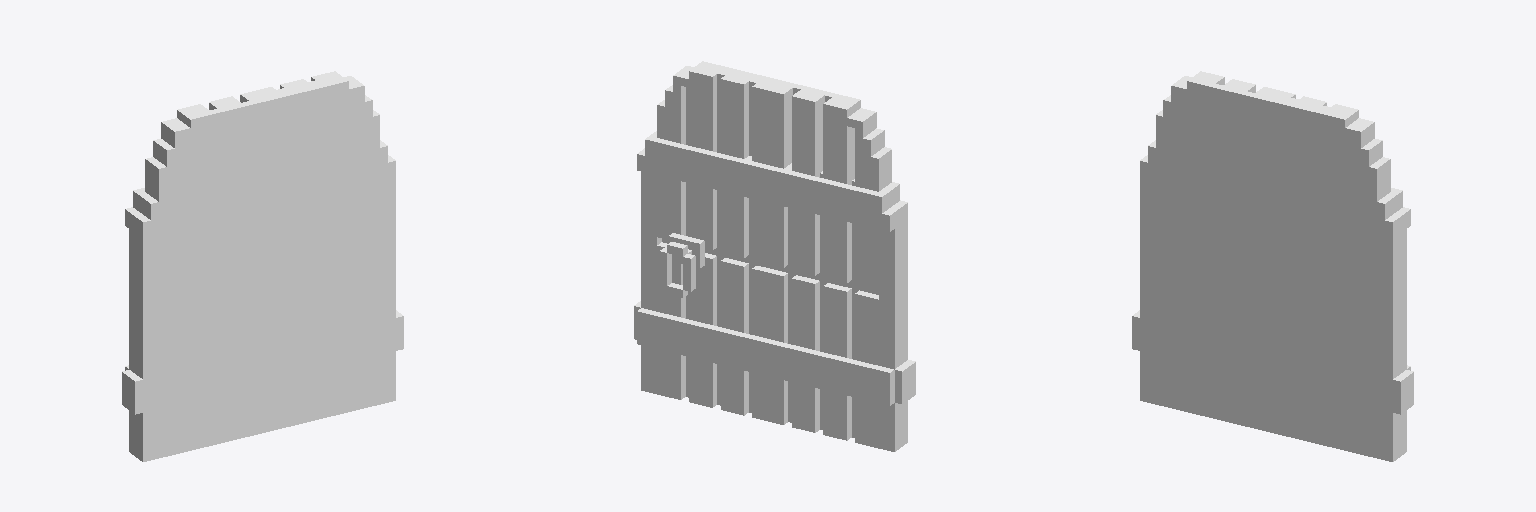
File: ship-4.obj
3 renders of one model, left to right at view 1: azimuth 30°, elevation 25°; view 2: azimuth 150°, elevation 25°; view 3: azimuth 330°, elevation 25°, orthographic.
Visible parts, largest first — view 1: object 1; view 2: object 1; view 3: object 1.
Boxes of the visible parts, box(x1,y1,x2,y2) form: object 1: box(122, 71, 403, 461); object 1: box(634, 61, 915, 451); object 1: box(1132, 71, 1413, 461).
Size of the model in its own units: 3.4 by 4 by 0.6.